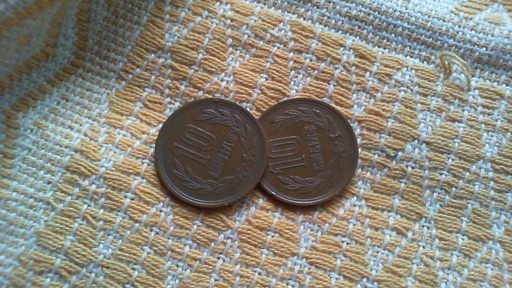10yen: (155, 98, 268, 209), (250, 98, 358, 208)
